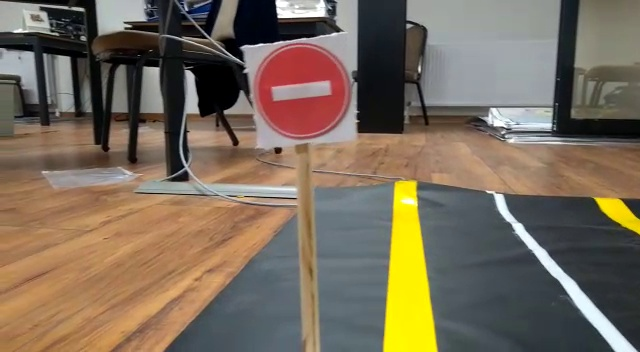girisi_olmayan_yol: (248, 40, 355, 144)
